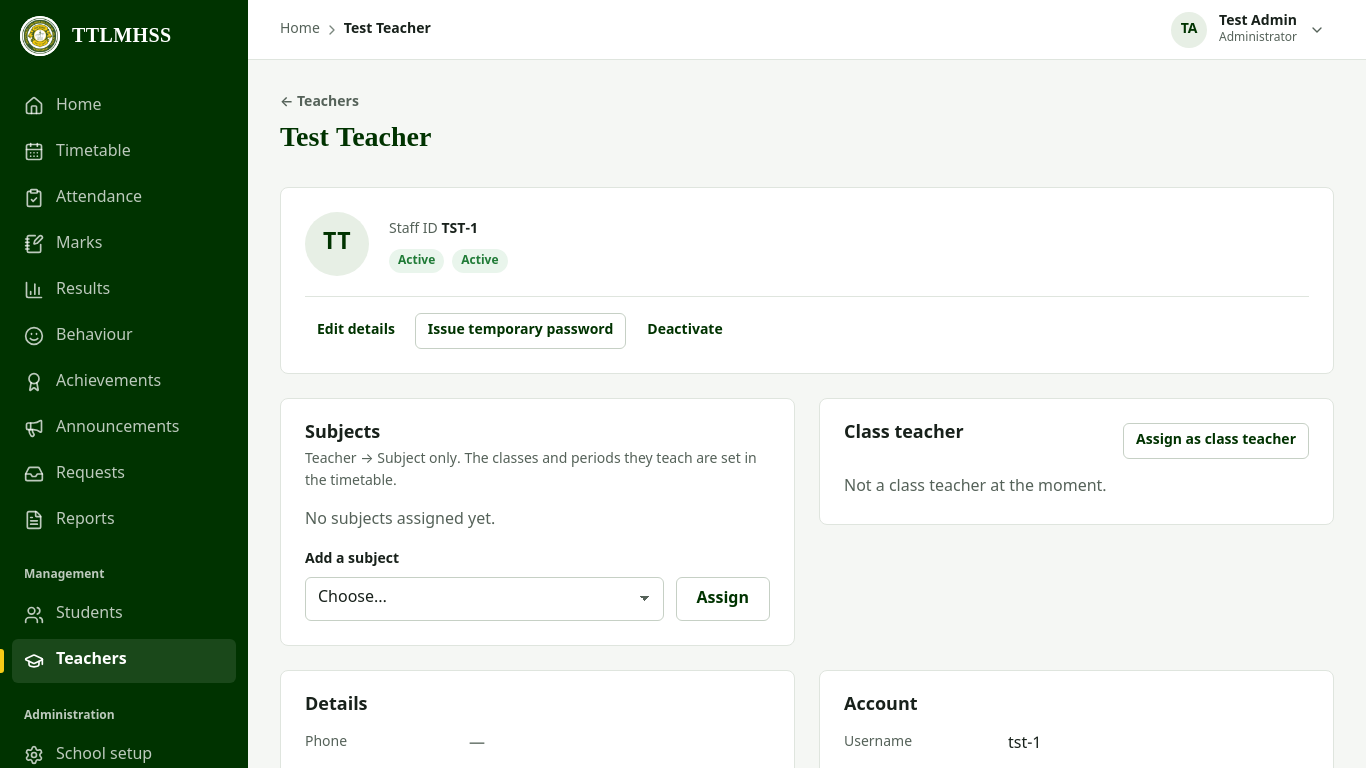
Test: teachers › assigns a subject from the subject list
Select "Test Maths" in the dropdown labelled "Add a subject": (484, 599) [305,577,664,621]
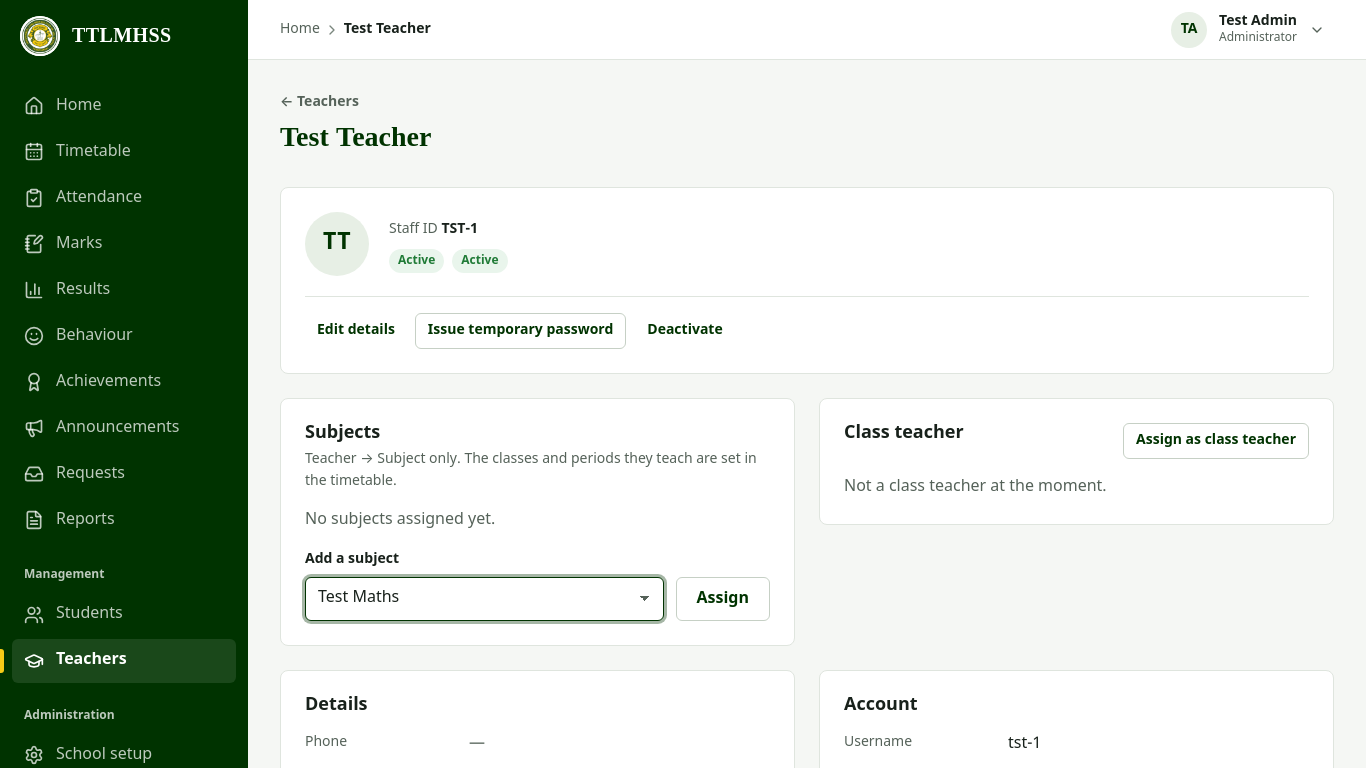
Click the button "Assign": (723, 599) [676,577,770,621]
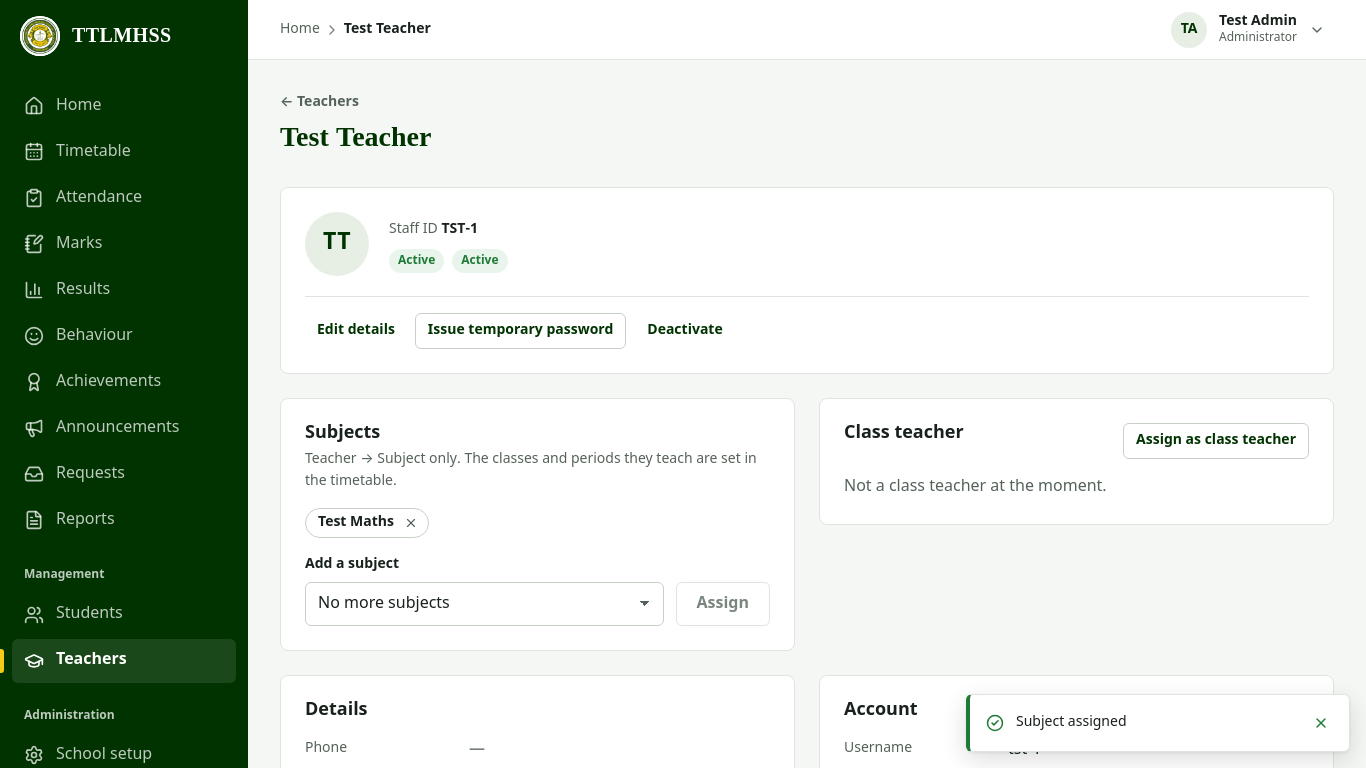
Expected: the list item "Test Maths" is shown, [305,508,429,538]
Expected: the button named "Remove Test Maths" is shown, [398,510,424,536]
